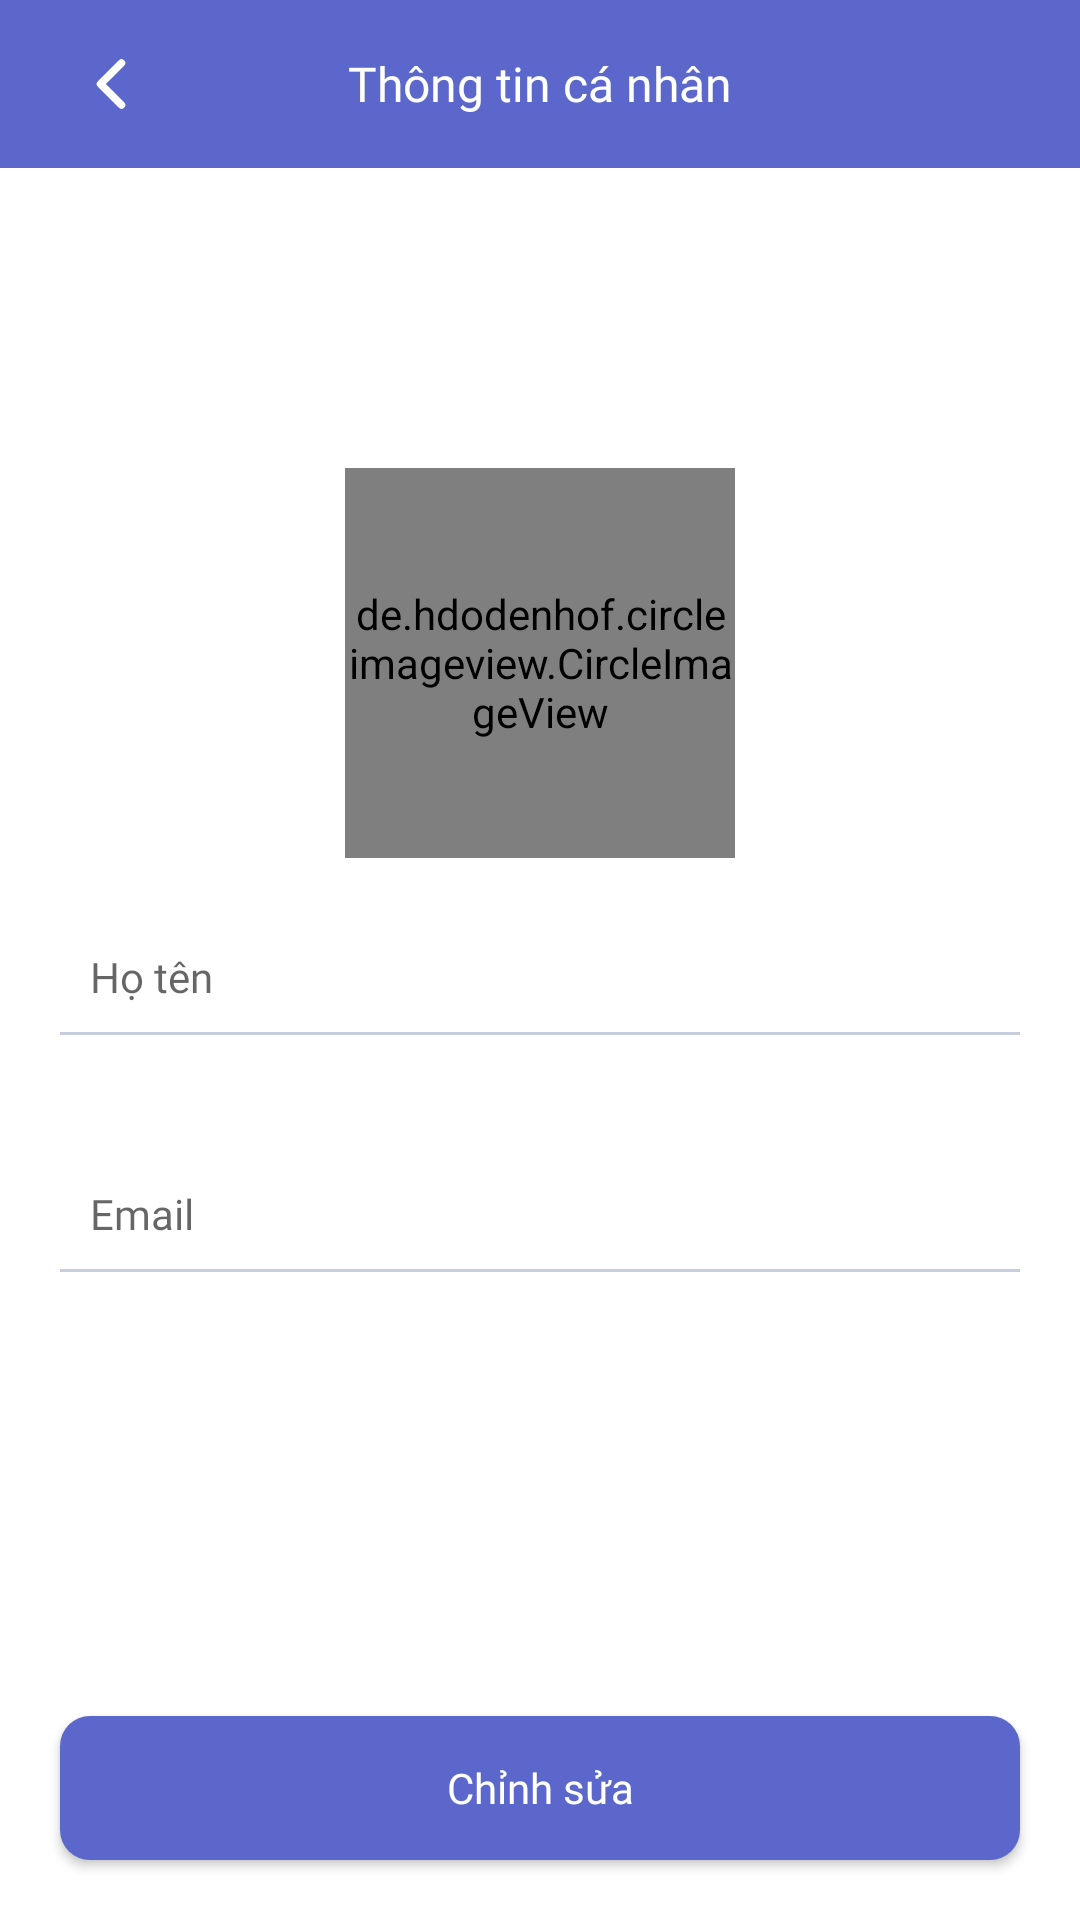

Named icons in this screenshot (1080px x 1920px) and their centers, point (x, y):
btnback: point (111, 84)
